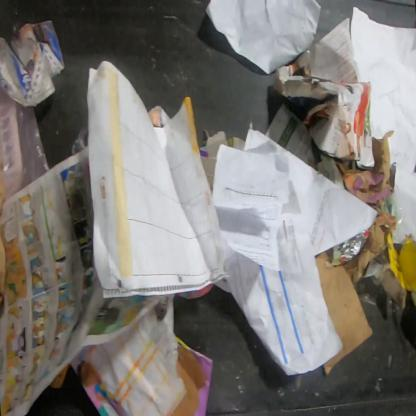cardboard: (316, 251, 375, 377), (378, 231, 416, 311), (200, 128, 245, 193), (355, 84, 376, 172), (337, 230, 371, 264)
soft_plastic: (0, 86, 51, 206), (381, 190, 404, 240)
